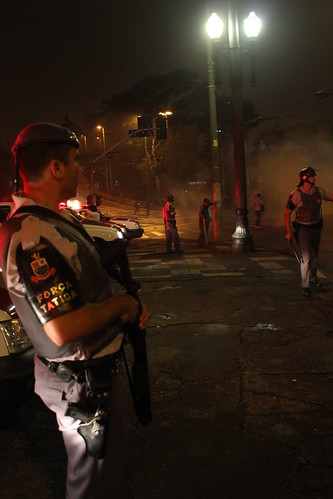light pole: (198, 1, 274, 252)
policeman: (1, 118, 128, 487), (282, 166, 333, 290), (156, 188, 189, 261)
weapon: (105, 238, 166, 415)
